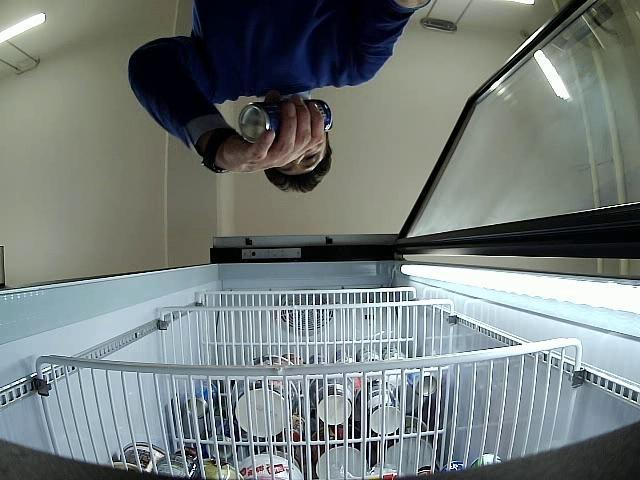16_hot6: (239, 99, 333, 143)
